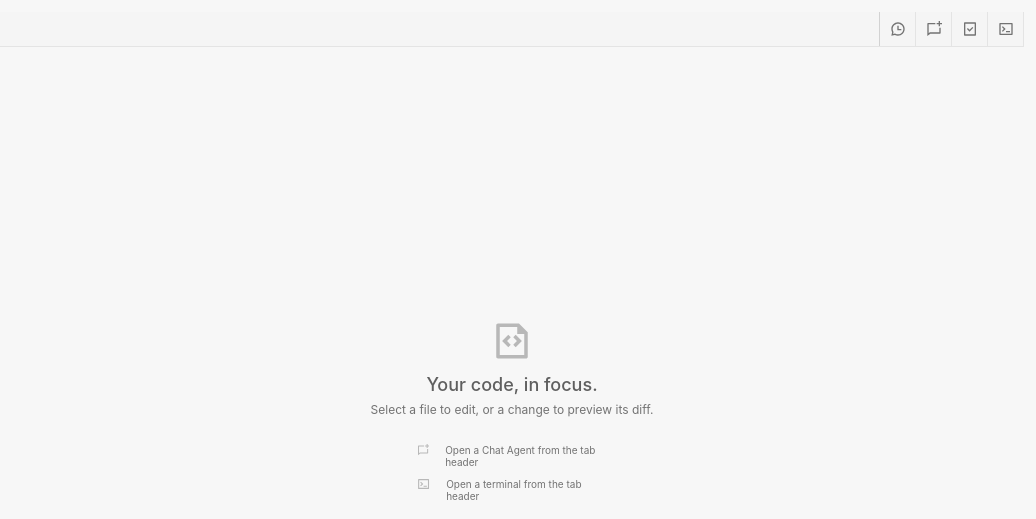
Test: Chat history popover › closes on editor content pointerdown even if the target stops bubbling
This screenshot has width=1036, height=519.
Click the button named "Chat history" at (898, 29), box [880,12,916,46]
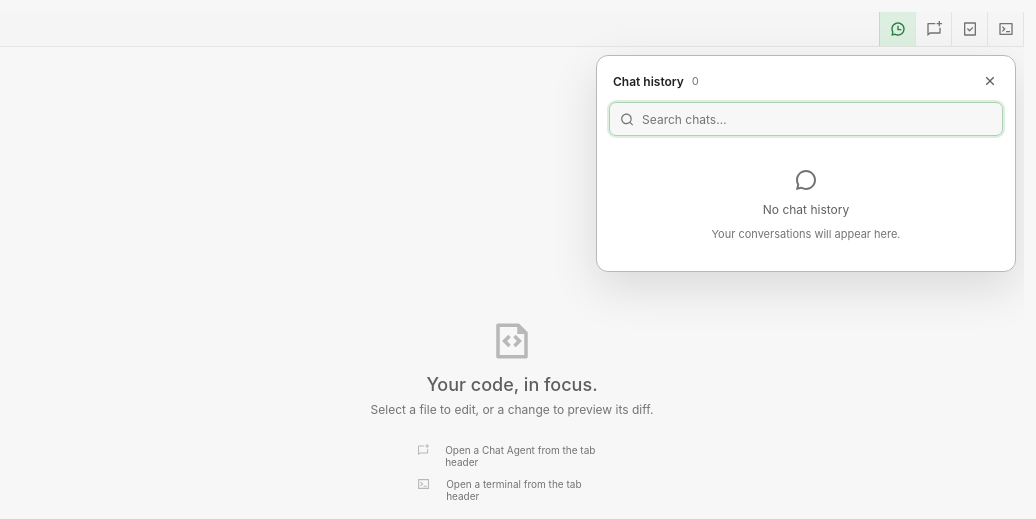
expect the text "Open a Chat Agent from the tab header" is shown: met, box [445,444,607,468]
expect the text "No chat history" is shown: met, box [763,202,849,217]
Press the mouse on the heading "Your code, in focus." at (512, 384), box [426,374,598,395]
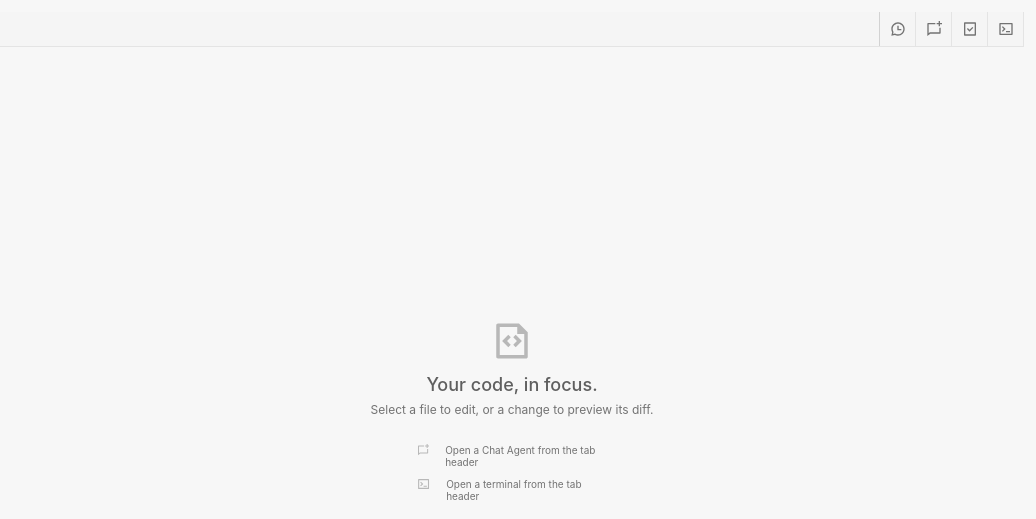
expect the heading "Chat history" is gone: met
